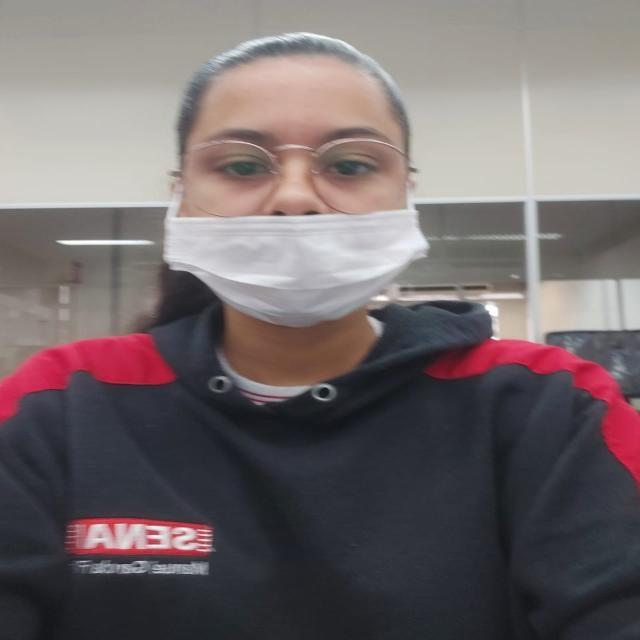hairnet: (181, 57, 395, 313)
